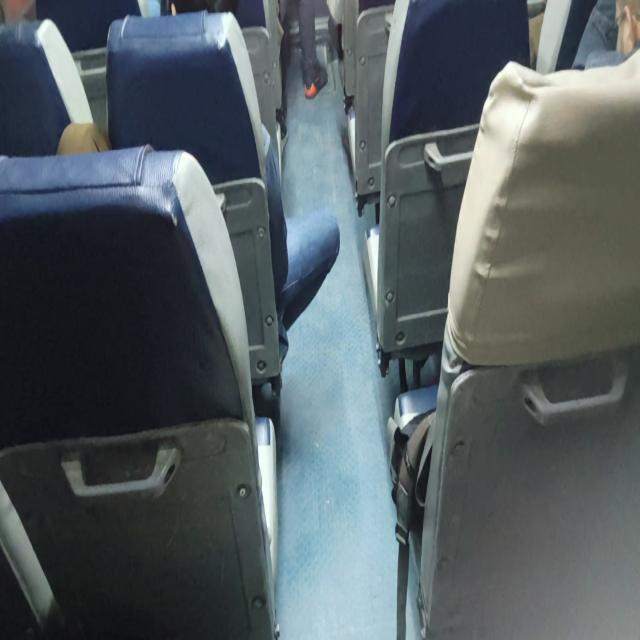person: (166, 0, 253, 59), (603, 0, 639, 72)
